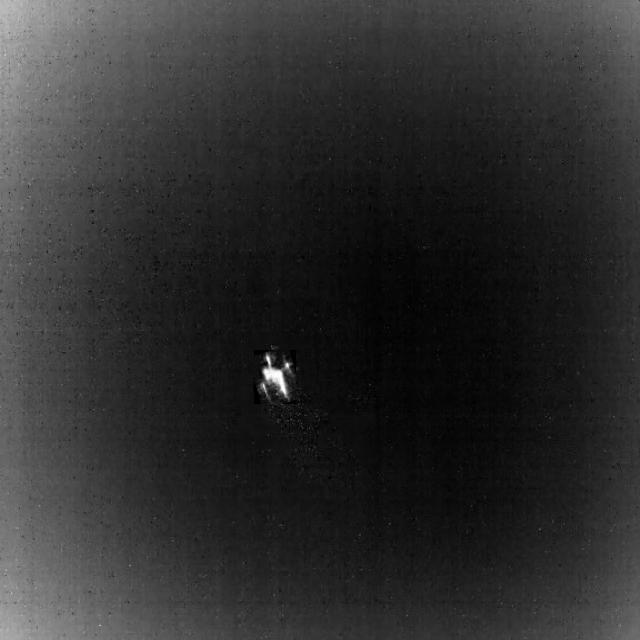drone: (254, 350, 296, 404)
